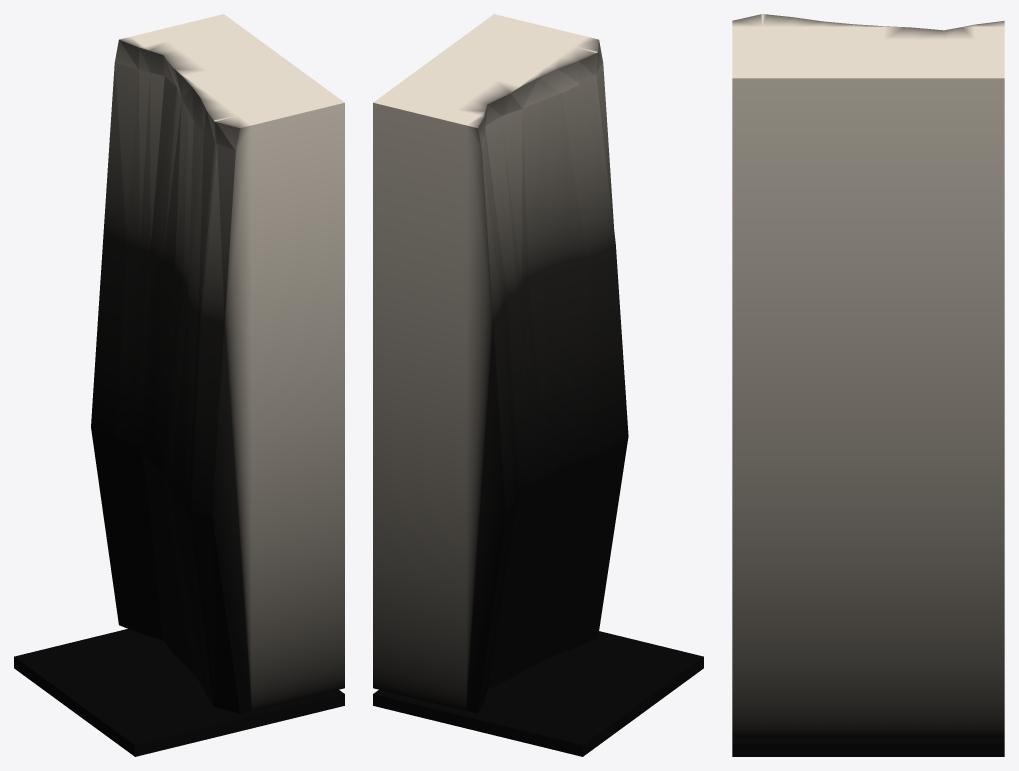
Rendered from SM_VKI_Ground_Cave_XOOX_Q01.fbx.
3 renders of one model, left to right at view 1: azimuth 30°, elevation 25°; view 2: azimuth 150°, elevation 25°; view 3: azimuth 270°, elevation 25°, orthographic. The views are drawn at different scales.
Visible parts, largest first — view 1: SM_VKI_Ground_Cave_XOOX_Q01.001; view 2: SM_VKI_Ground_Cave_XOOX_Q01.001; view 3: SM_VKI_Ground_Cave_XOOX_Q01.001.
Part boxes in pixels (left/top/right/bottom): SM_VKI_Ground_Cave_XOOX_Q01.001: left=14, top=14, right=344, bottom=756; SM_VKI_Ground_Cave_XOOX_Q01.001: left=373, top=14, right=703, bottom=756; SM_VKI_Ground_Cave_XOOX_Q01.001: left=732, top=14, right=1004, bottom=756.
Size of the model in its own units: 1.5 by 4.12 by 1.5.
